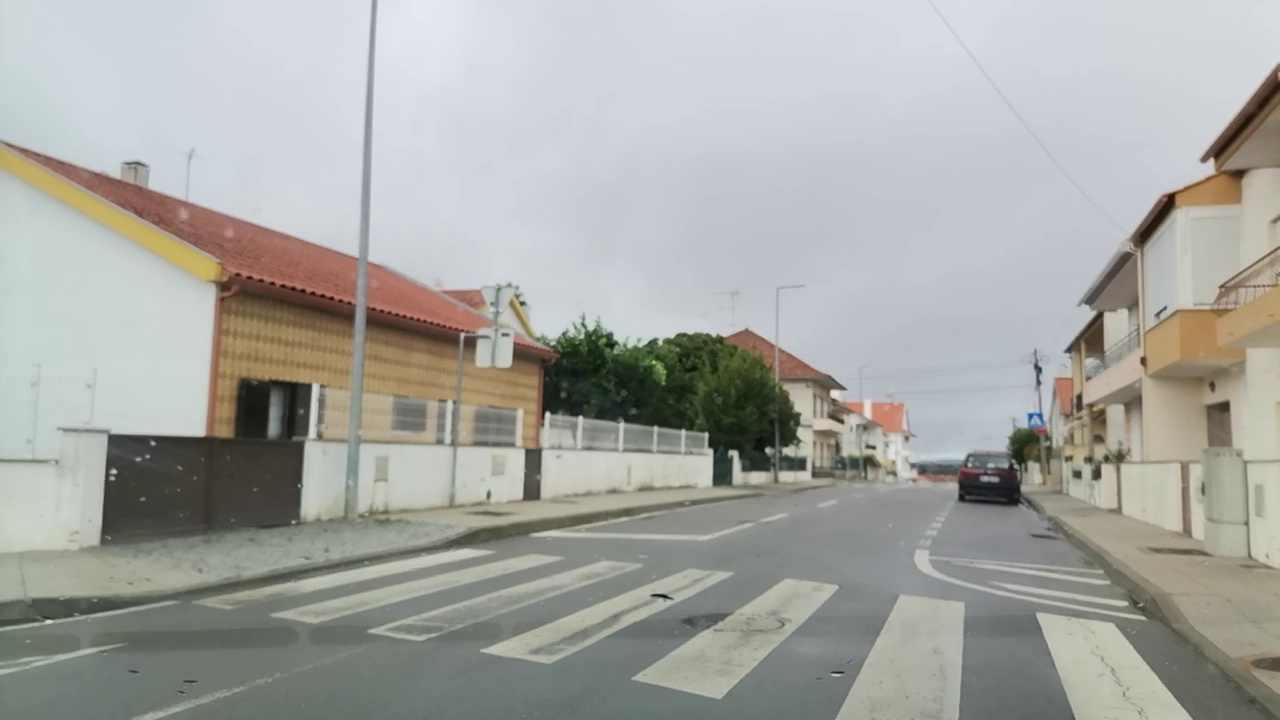Stairs: (215, 543, 1216, 720)
